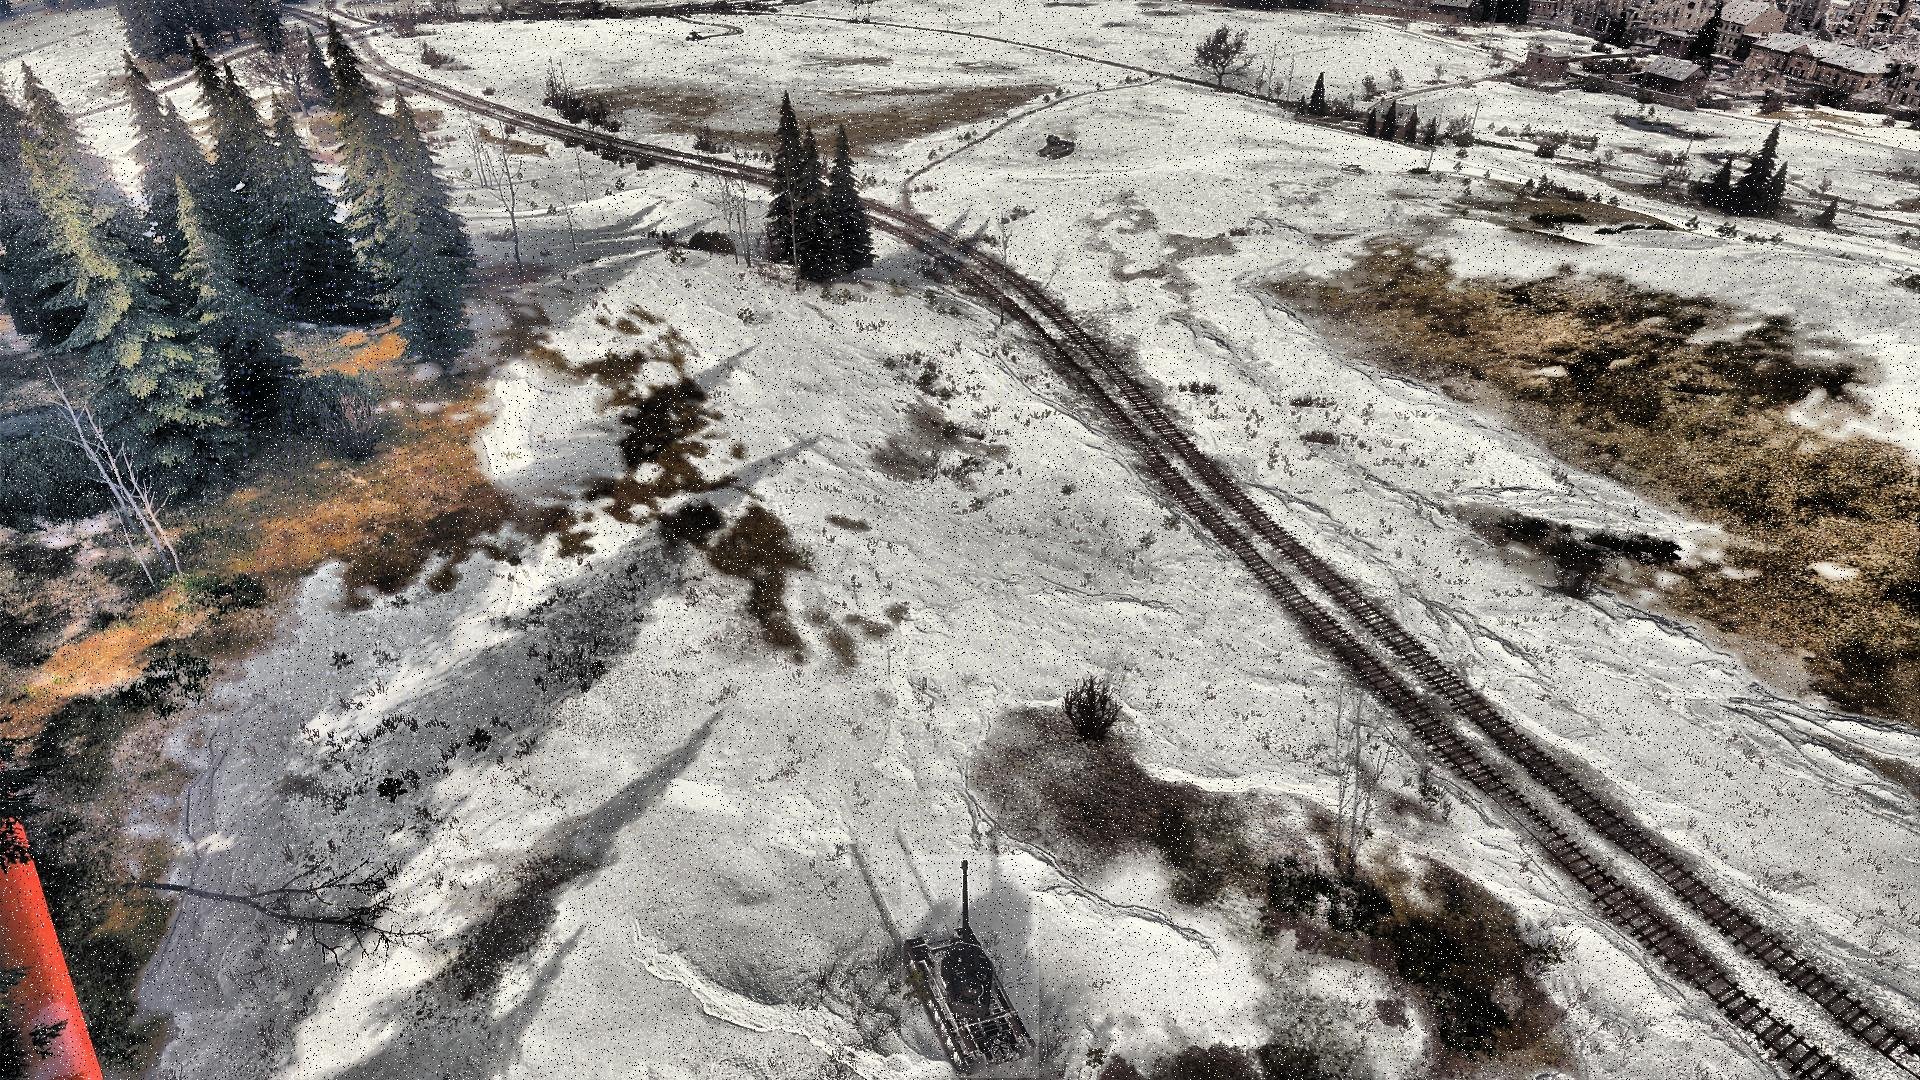military-vehicle: (902, 855, 1040, 1079), (1038, 133, 1076, 161)
